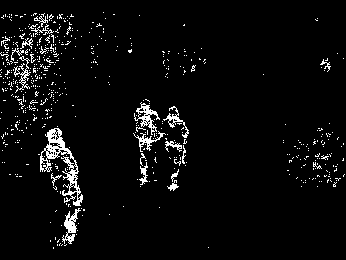person: (39, 126, 85, 249), (132, 94, 160, 185), (168, 100, 192, 190)
